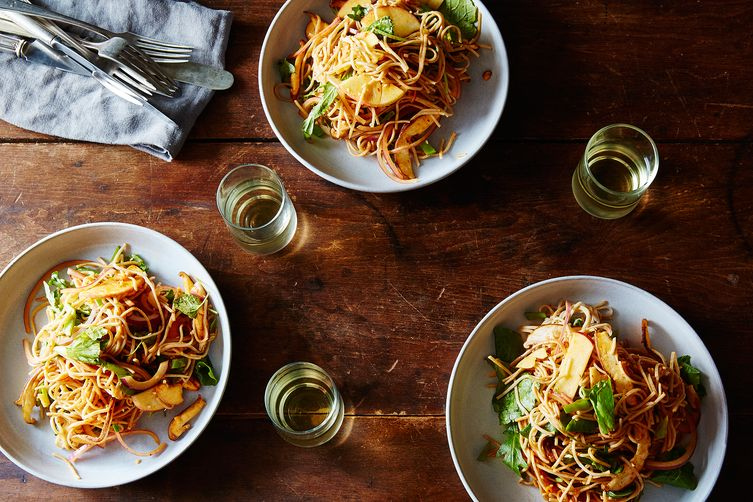Soba: (490, 332, 687, 502), (296, 11, 486, 173)
